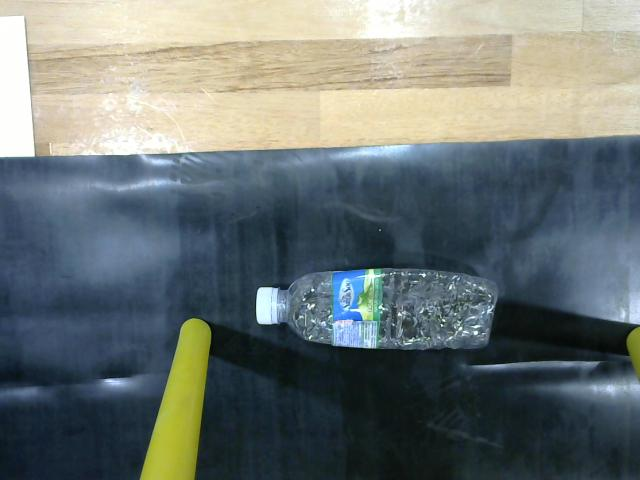bottle: (247, 262, 503, 350)
